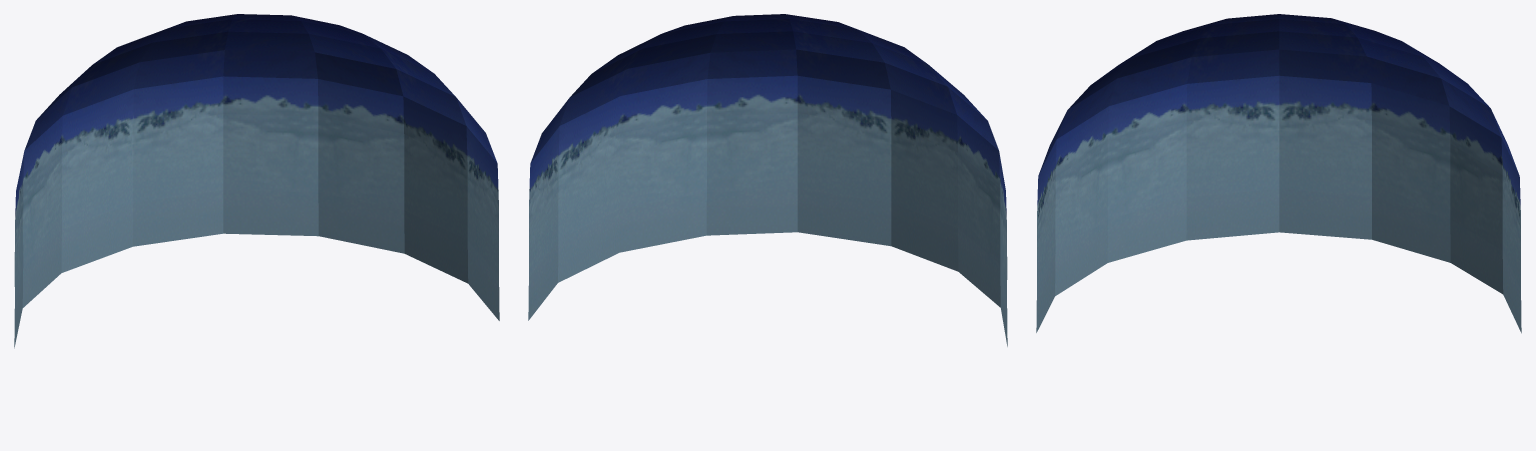
File: Track_09_sky.glb
The picture shows the model from 3 angles, left to right: view 1: azimuth 30°, elevation 25°; view 2: azimuth 150°, elevation 25°; view 3: azimuth 270°, elevation 25°; orthographic projection.
Visible parts, largest first — view 1: Mesh_0; view 2: Mesh_0; view 3: Mesh_0.
Boxes of the visible parts, left/top/right/bottom form: Mesh_0: left=14, top=14, right=499, bottom=348; Mesh_0: left=528, top=14, right=1007, bottom=346; Mesh_0: left=1036, top=14, right=1521, bottom=333.
Size of the model in its own units: 366 by 243 by 366.
Materials: 1 (1 with a texture image).
